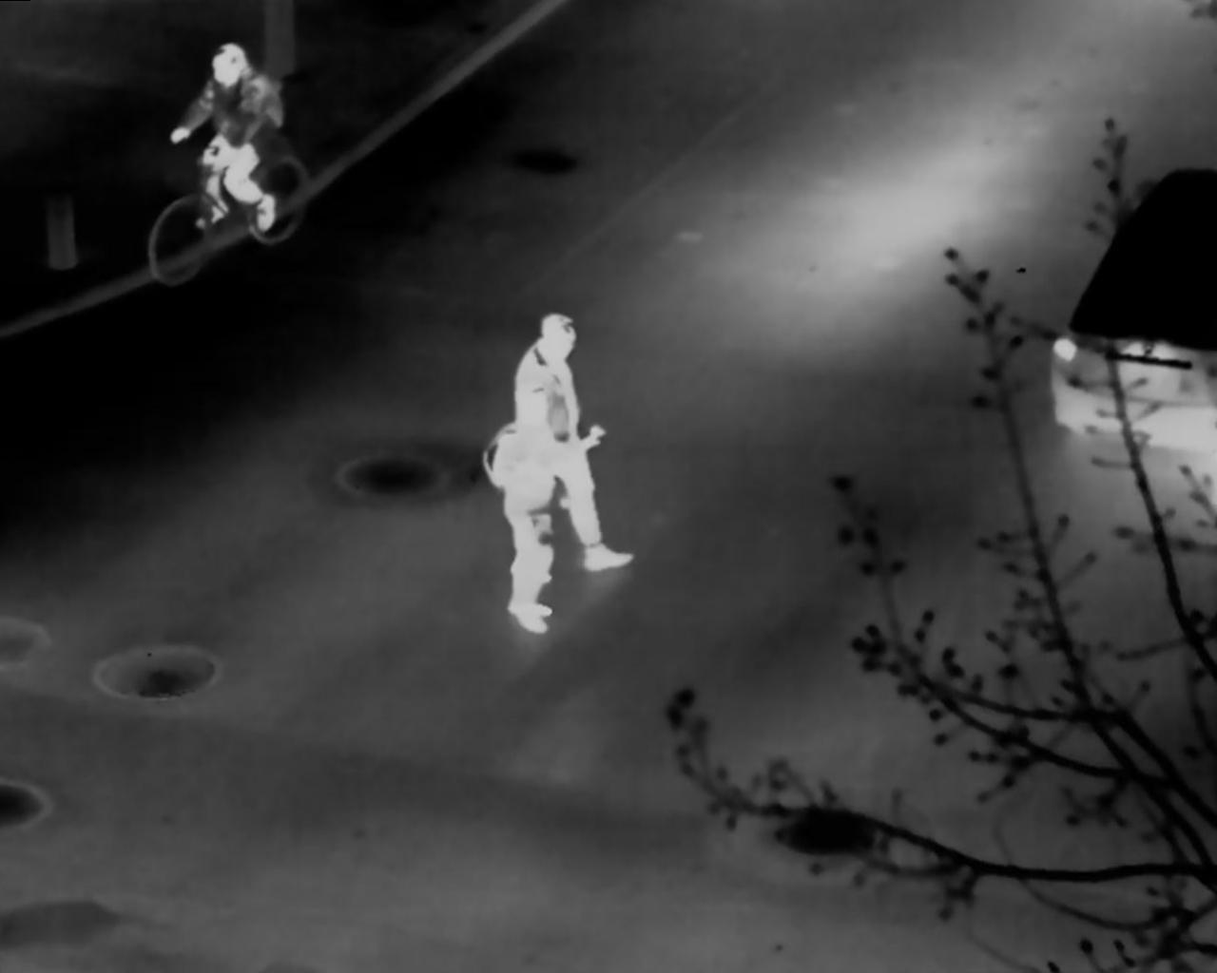person: (511, 314, 635, 571), (169, 39, 282, 233), (485, 386, 564, 637)
